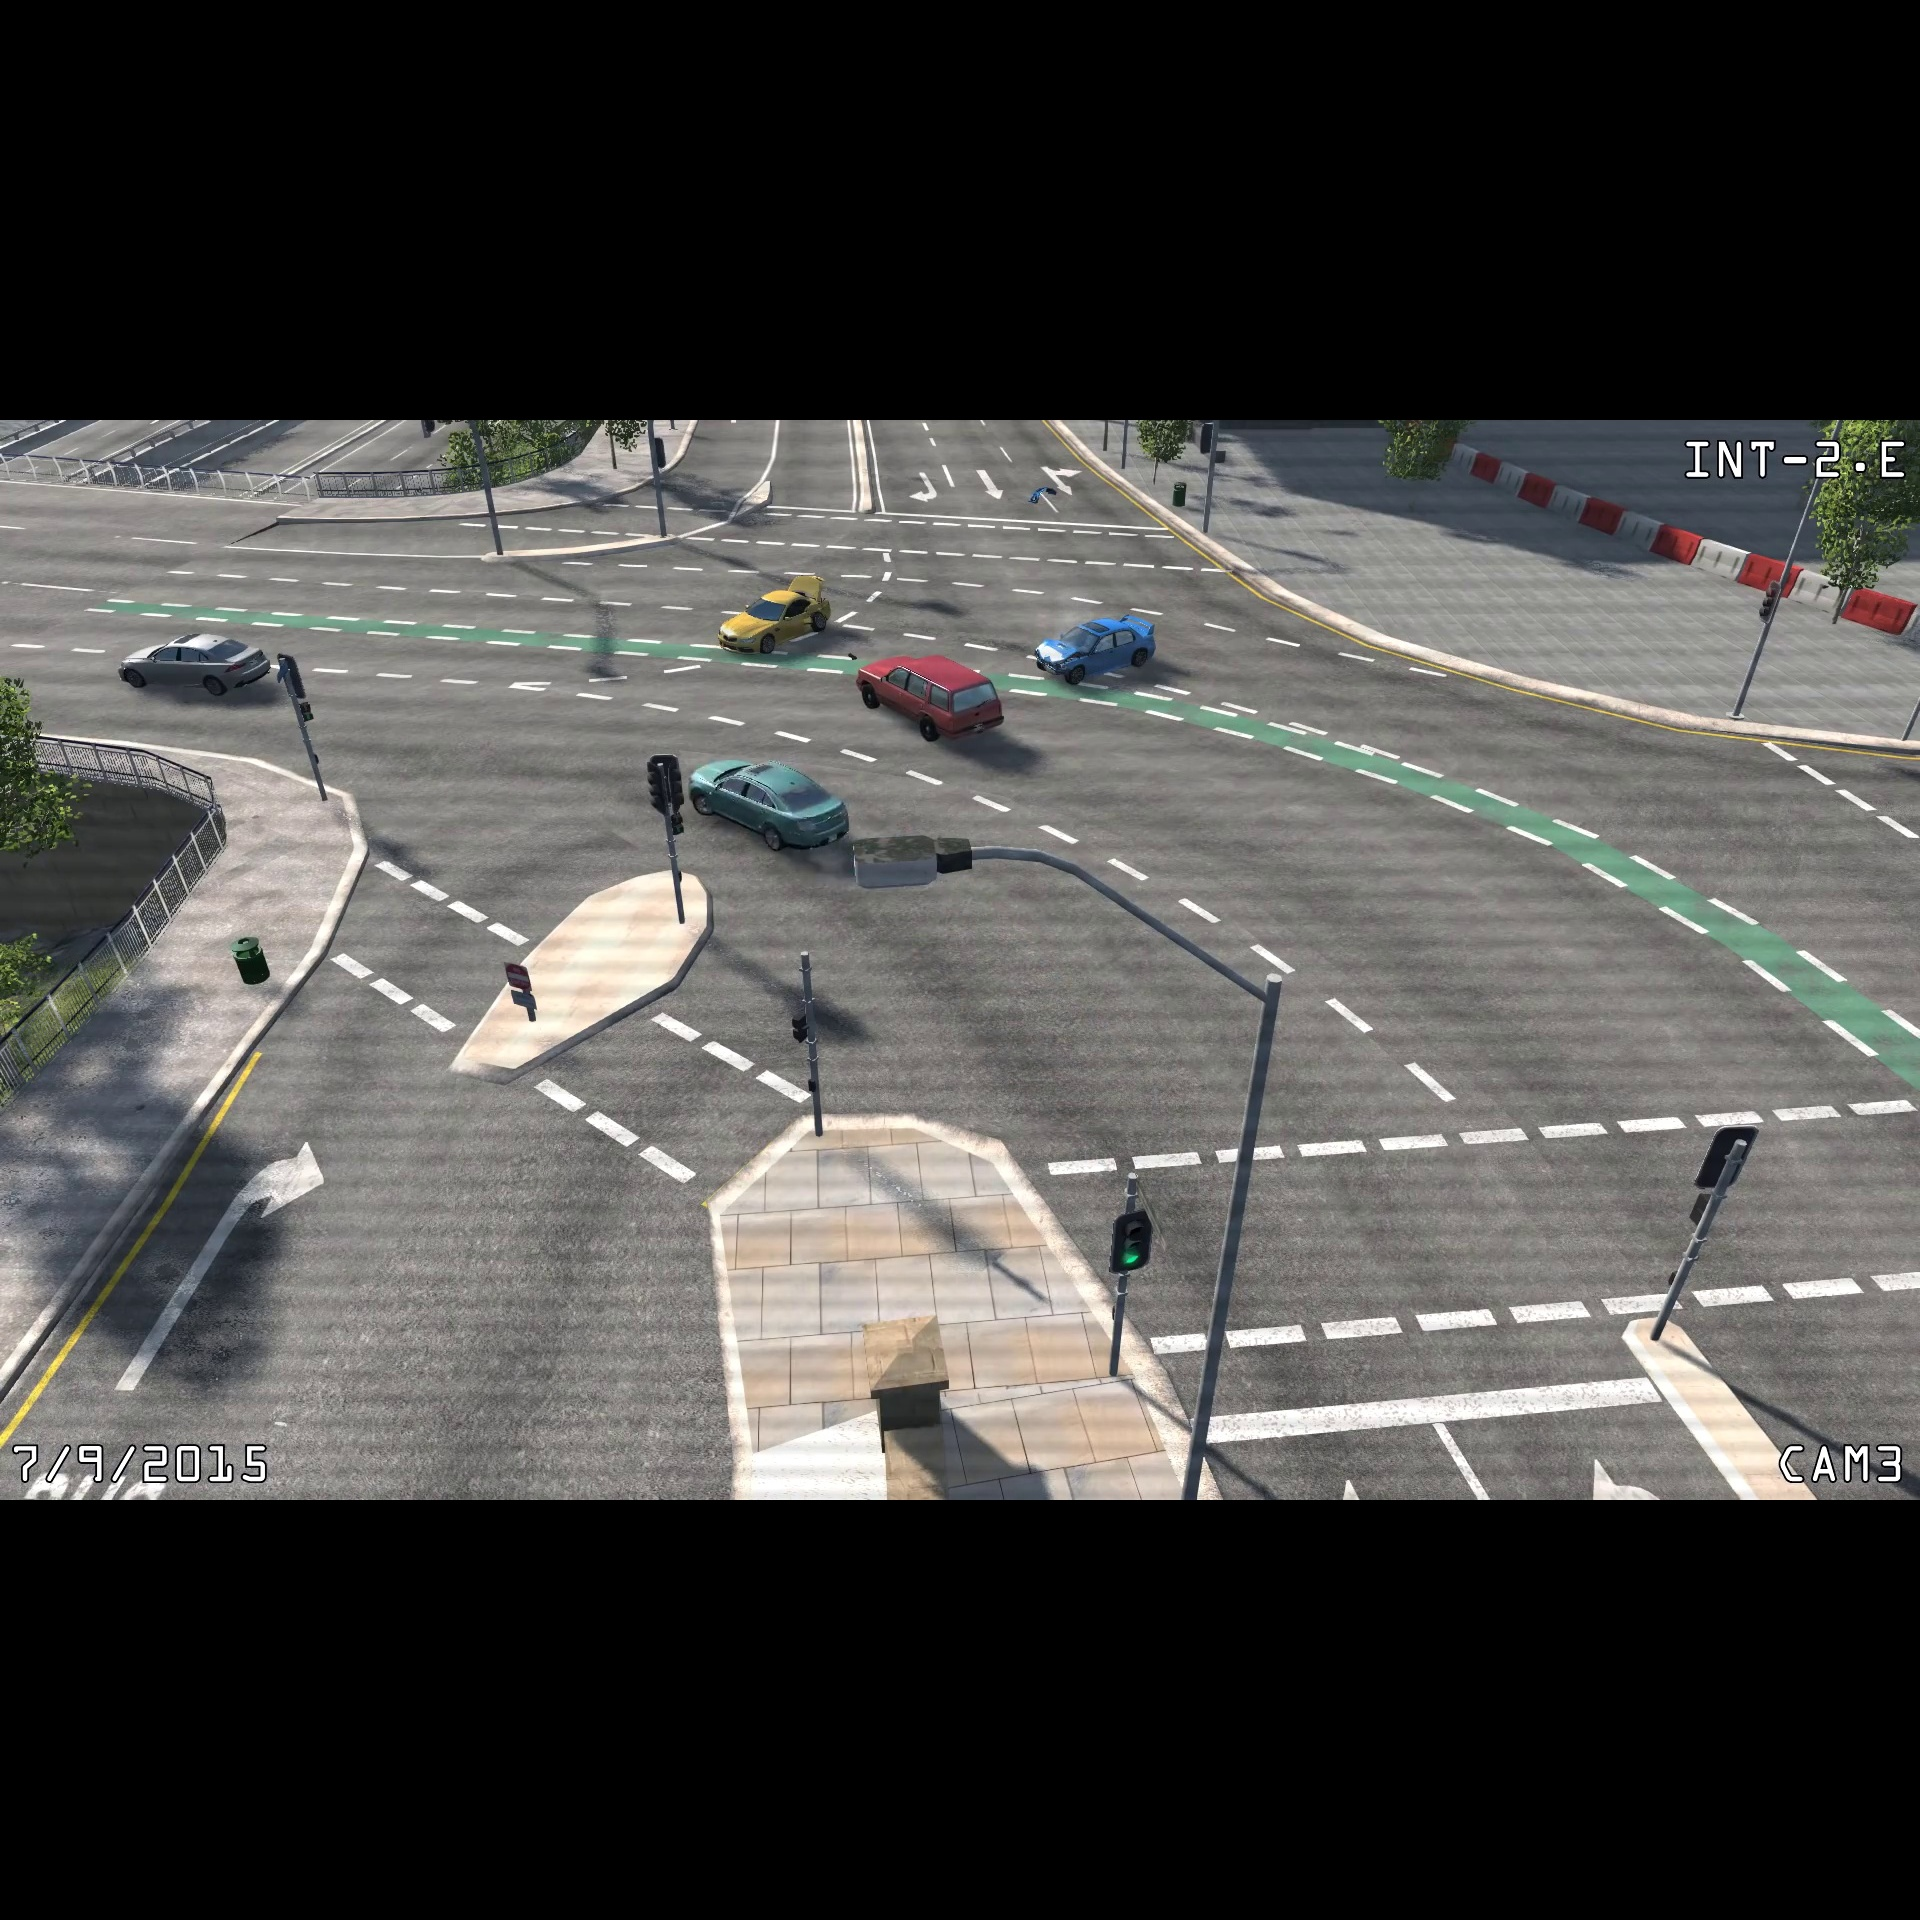vehicle: (684, 751, 860, 858), (853, 645, 1015, 747), (111, 626, 274, 703), (712, 571, 842, 663), (1030, 607, 1162, 693)
